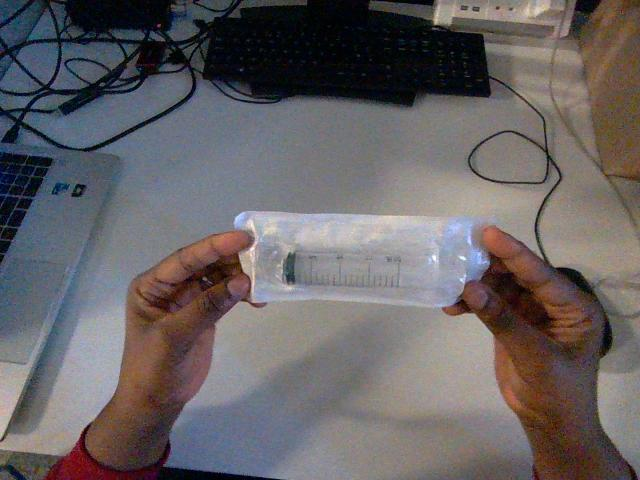syringe: (234, 211, 488, 306)
